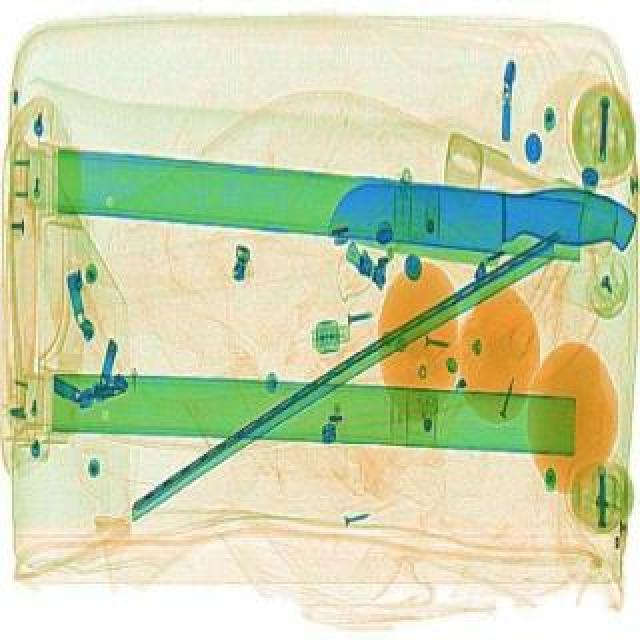knife: (326, 172, 638, 262)
